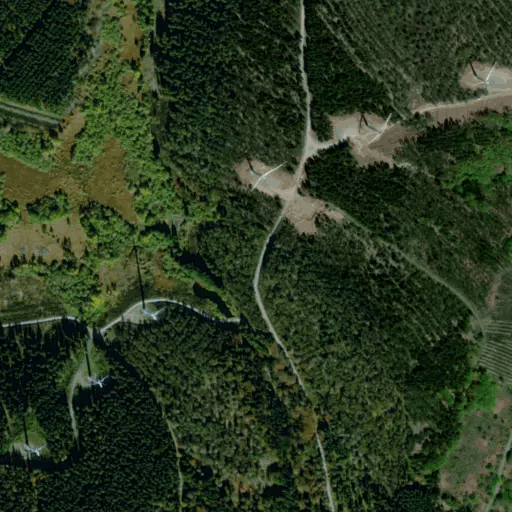wt: (124, 230, 164, 328), (244, 143, 287, 199), (75, 332, 110, 391), (15, 413, 49, 460), (466, 53, 503, 95), (359, 112, 398, 145)
